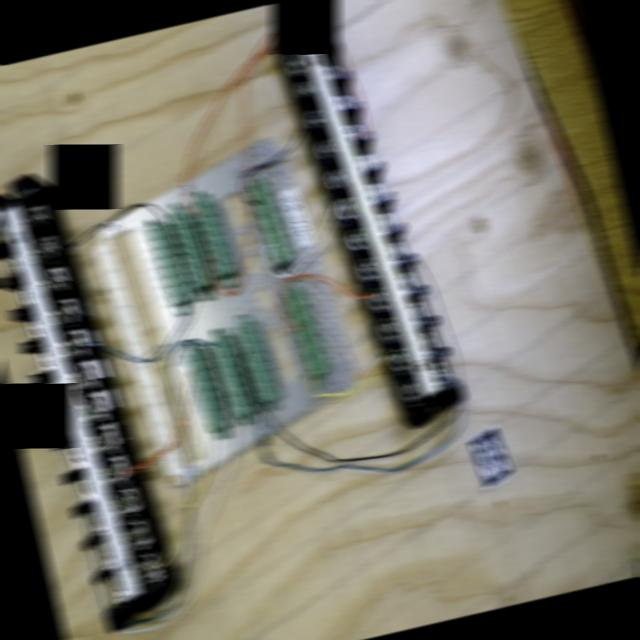Flathead_Block: (268, 0, 470, 429)
Phillips_Block: (0, 171, 170, 632)
Terminal_1: (244, 176, 294, 266), (281, 287, 330, 377)
Terminal_2: (207, 331, 255, 418), (182, 345, 229, 433), (232, 316, 279, 404), (165, 203, 212, 291), (189, 190, 236, 277)
